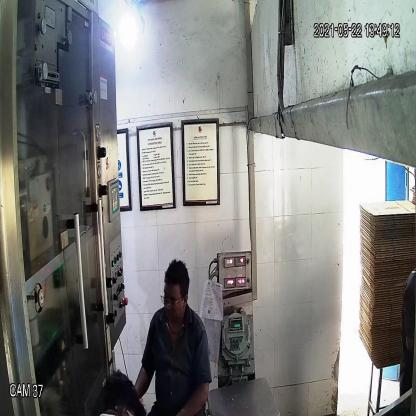goggles: (157, 284, 188, 308)
